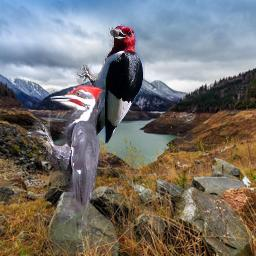Woodpecker: (25, 85, 105, 240), (72, 17, 145, 160)
